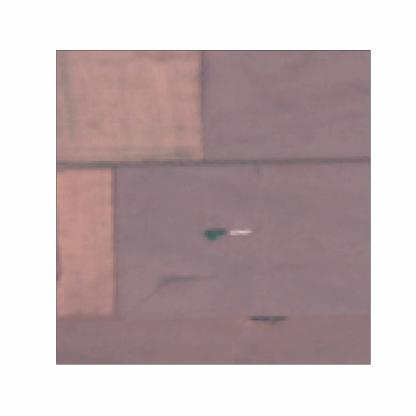silobolsa: (227, 228, 258, 237)
